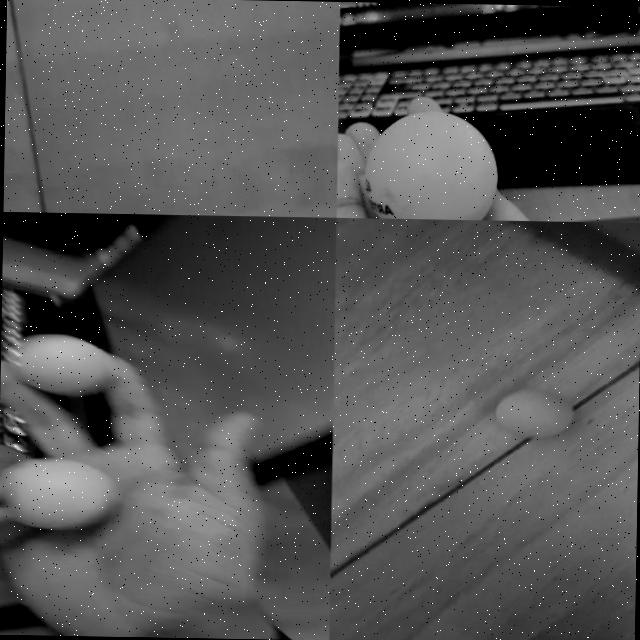ping-pong-ball: (365, 108, 501, 218), (0, 455, 119, 530), (10, 331, 110, 394), (496, 386, 570, 437)
